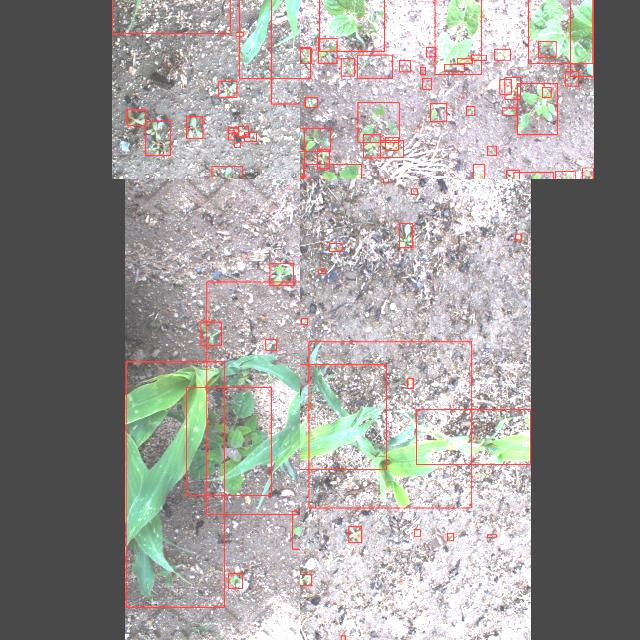crop: (308, 342, 472, 508), (126, 361, 224, 607), (206, 281, 300, 514), (300, 364, 386, 469), (416, 410, 530, 464), (239, 0, 300, 78), (528, 0, 593, 63), (112, 0, 230, 33), (434, 0, 481, 74), (319, 0, 385, 51), (570, 0, 593, 77)
weed: (186, 388, 270, 496), (518, 84, 558, 134), (358, 102, 398, 142), (303, 164, 361, 179), (146, 121, 170, 155), (358, 54, 392, 78), (300, 128, 329, 151), (270, 264, 294, 286), (318, 38, 337, 64), (201, 322, 221, 346), (381, 140, 404, 158), (364, 134, 381, 158), (212, 166, 242, 179), (399, 222, 413, 248), (186, 116, 202, 138), (505, 77, 521, 99), (291, 511, 300, 549), (126, 110, 146, 126), (514, 171, 554, 179), (300, 47, 310, 78), (219, 81, 237, 97), (538, 41, 556, 57), (431, 103, 447, 121), (341, 58, 354, 76), (348, 527, 362, 543), (317, 150, 329, 168), (565, 72, 579, 86), (228, 574, 242, 588), (473, 164, 485, 179), (494, 49, 510, 60), (300, 48, 311, 63), (444, 64, 464, 72), (555, 171, 575, 179), (386, 138, 398, 150), (500, 80, 510, 94), (506, 169, 519, 179), (582, 168, 593, 179), (300, 574, 311, 585), (244, 132, 256, 142), (305, 97, 317, 107), (400, 60, 410, 72), (422, 78, 432, 90), (502, 108, 516, 116), (328, 243, 342, 251), (238, 127, 248, 137), (426, 47, 436, 57), (542, 87, 552, 97), (487, 146, 497, 156), (266, 340, 276, 350), (466, 106, 476, 115), (458, 58, 472, 64), (228, 130, 234, 140), (472, 56, 486, 60), (420, 67, 426, 75), (228, 128, 238, 132), (408, 379, 412, 389), (234, 142, 240, 148), (414, 530, 420, 536), (448, 534, 454, 540), (301, 318, 307, 324), (411, 188, 417, 194), (516, 234, 522, 240), (235, 32, 242, 36), (318, 270, 324, 274), (488, 535, 497, 537), (341, 636, 345, 640), (383, 179, 388, 182)
